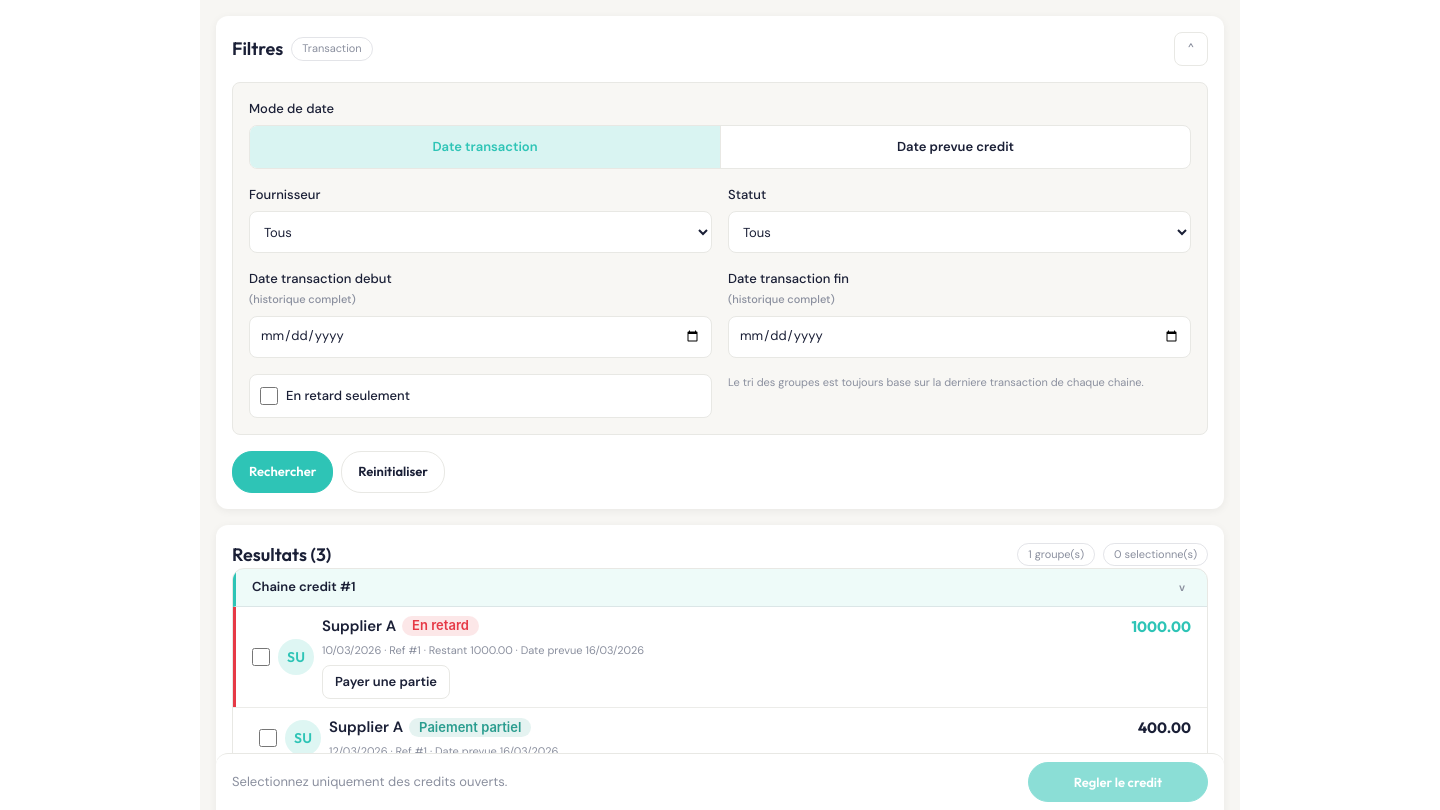
it: PaymentsSearch credit chains › supports partial payment modal validation and submit
Click the button "Payer une partie" at (386, 682), box [322, 665, 450, 699]
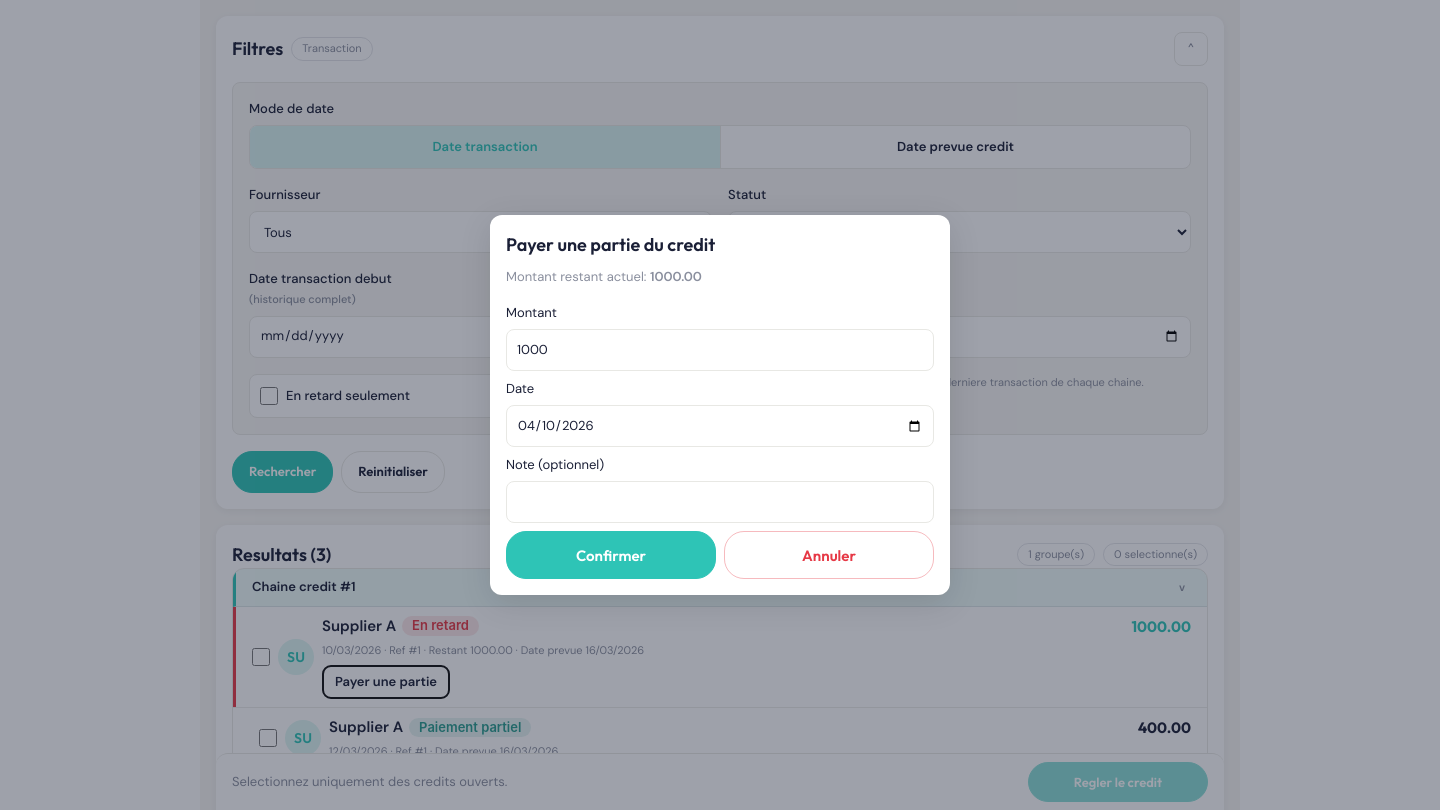
Replace the text in the number field labelled "Montant" with "0" at (720, 350), box [506, 329, 934, 371]
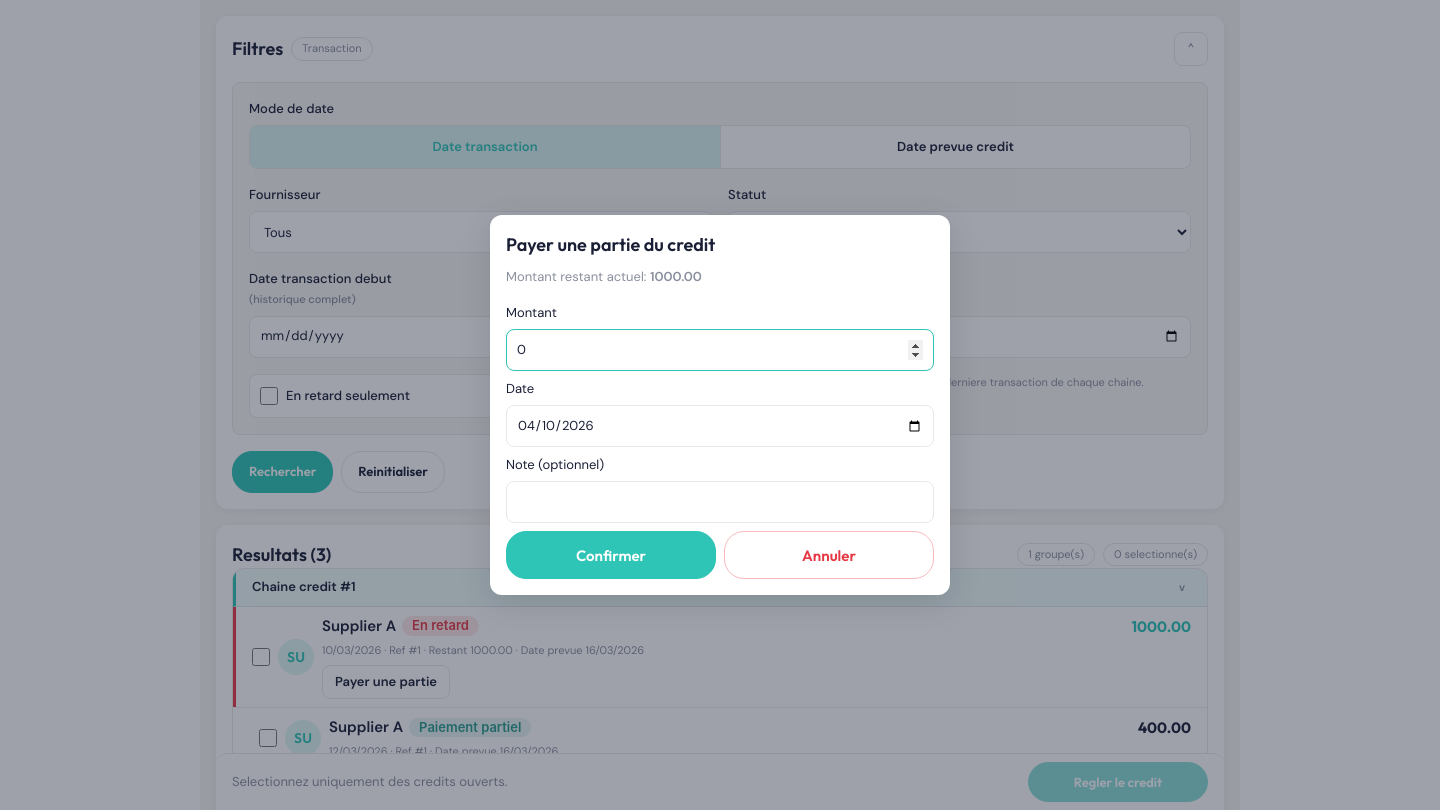
Click the button "Confirmer" at (611, 555), box [506, 531, 716, 579]
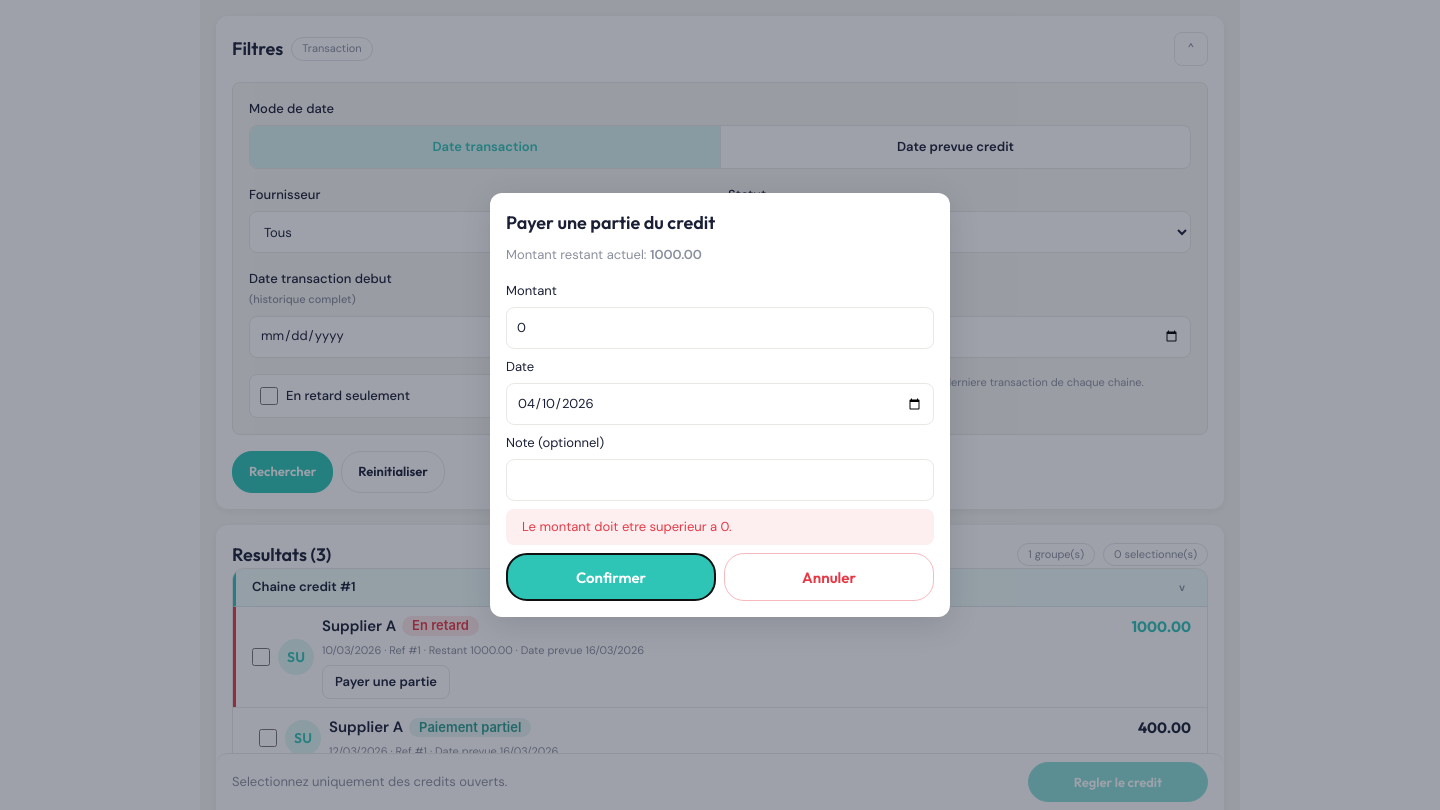
Check: the text "Le montant doit etre superieur a 0." is shown, box [506, 509, 934, 545]
Replace the text in the number field labelled "Montant" with "400" at (720, 328), box [506, 307, 934, 349]
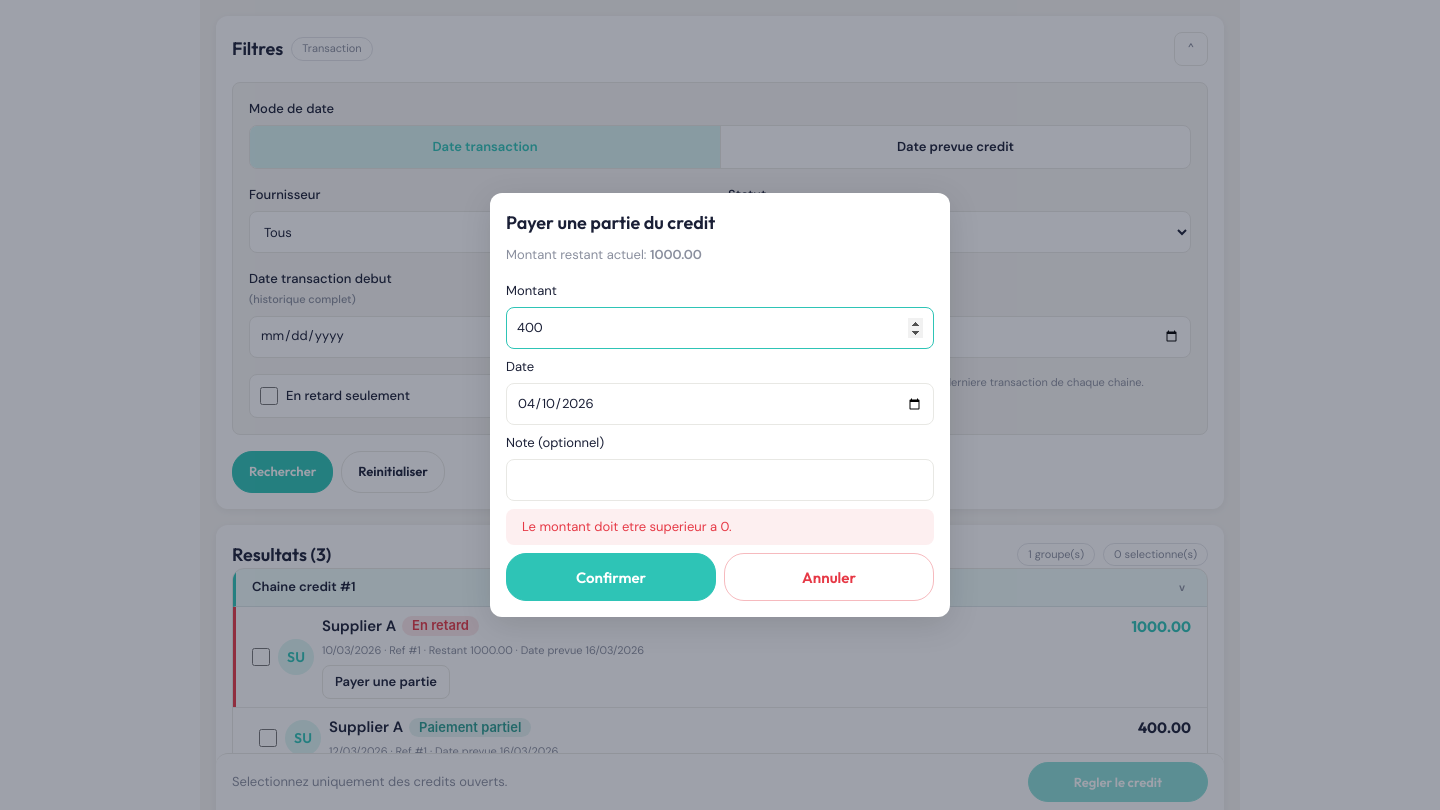
Click the button "Confirmer" at (611, 577), box [506, 553, 716, 601]
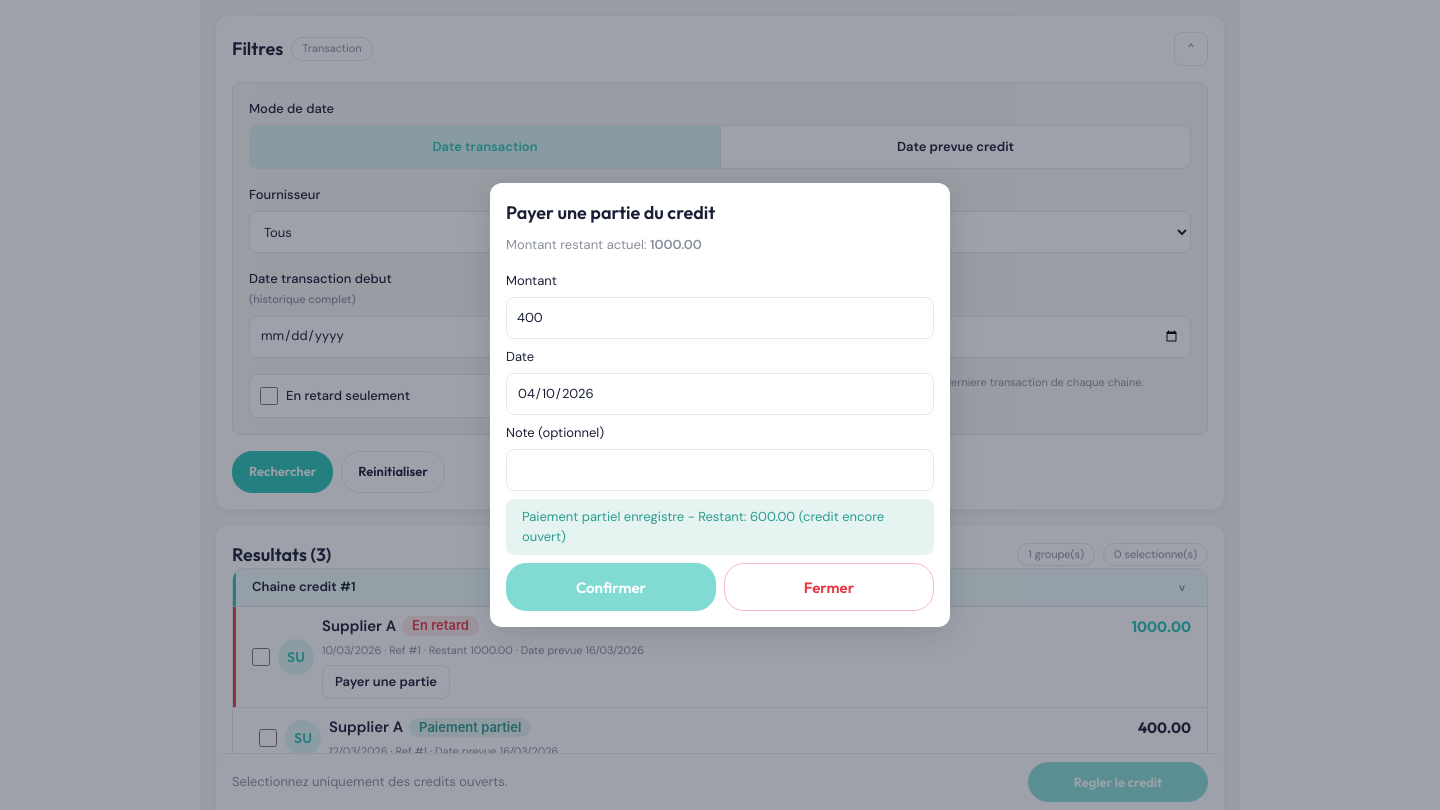
Check: the text "Paiement partiel enregistre" is shown, box [522, 508, 684, 525]
